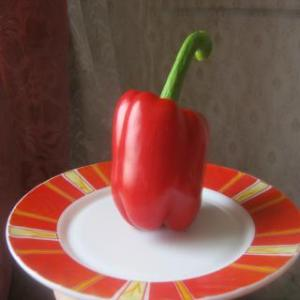bell_pepper: (108, 23, 226, 235)
